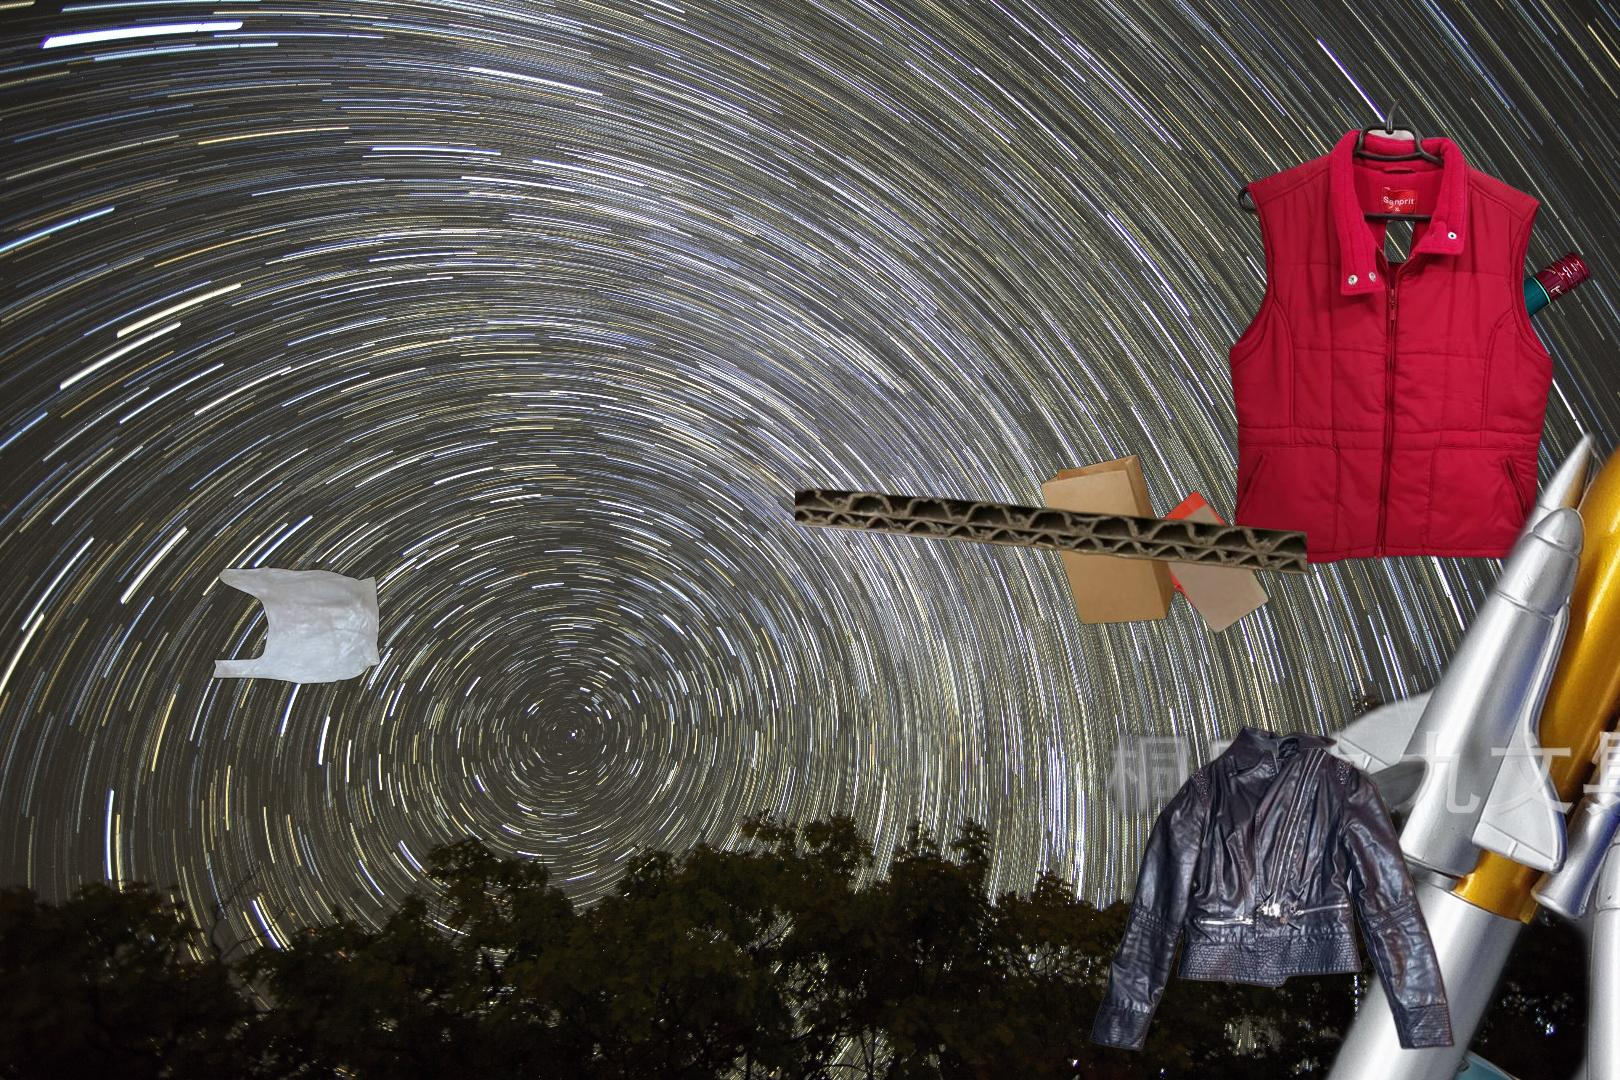clothes: (1225, 99, 1557, 568), (1087, 721, 1457, 1053)
glass: (1328, 245, 1596, 451)
paper: (1308, 999, 1620, 1080)
paper-bag: (1037, 451, 1272, 638)
penholder: (1078, 327, 1620, 1080)
plastic-bag: (209, 562, 383, 686)
trashbox-cardboard: (796, 485, 1307, 579)
